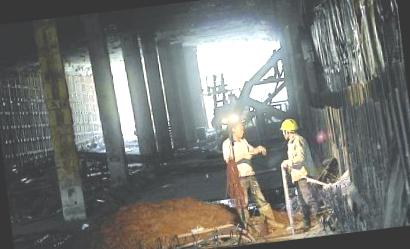no_helmet: (229, 118, 248, 141)
